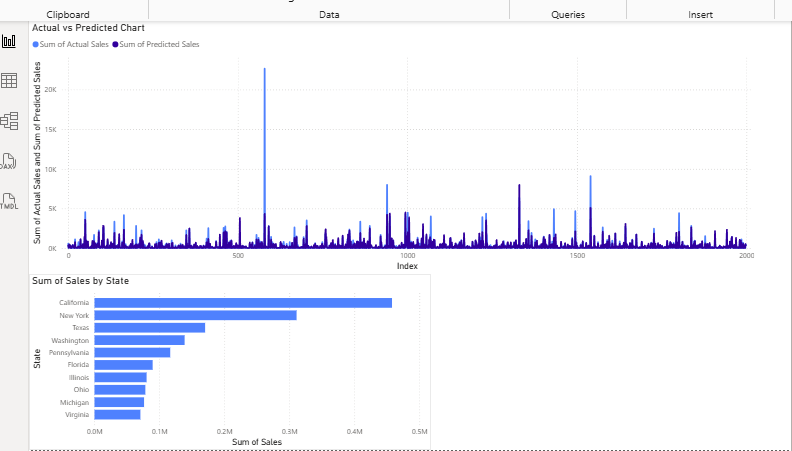

The dashboard page shown, as its layout file describes it:
{"tool":"powerbi","page":{"name":"Page 2","canvas":[1280,720],"ordinal":1},"visuals":[{"type":"barChart","fields":{"Category":["superstore.State"],"Y":["Sum(superstore.Sales)"]},"box":[0,425,675,295],"z":0},{"type":"lineChart","title":"Actual vs Predicted Chart","fields":{"Category":["predictions.Index"],"Y":["Sum(predictions.Actual Sales)","Sum(predictions.Predicted Sales)"]},"box":[0,0,1223.3,425],"z":1}]}

Visuals, with their boxes on the page's 1280x720 design canvas (x1, y1, x2, y2). These are canvas units, not pixel positions in the 792x451 screenshot, which may show the page scaled, cropped or inside an application window:
barChart - superstore.State x Sum(superstore.Sales): box=[0, 425, 675, 720]
"Actual vs Predicted Chart" lineChart: box=[0, 0, 1223, 425]
